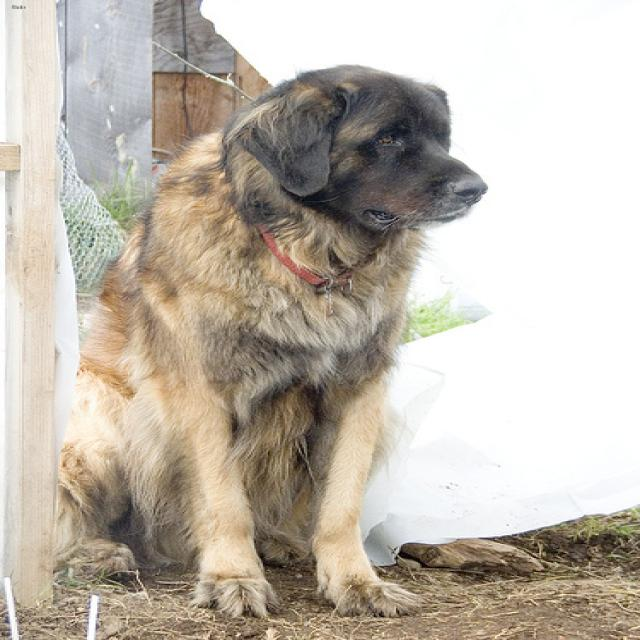dog-leonberger: (26, 55, 498, 627)
